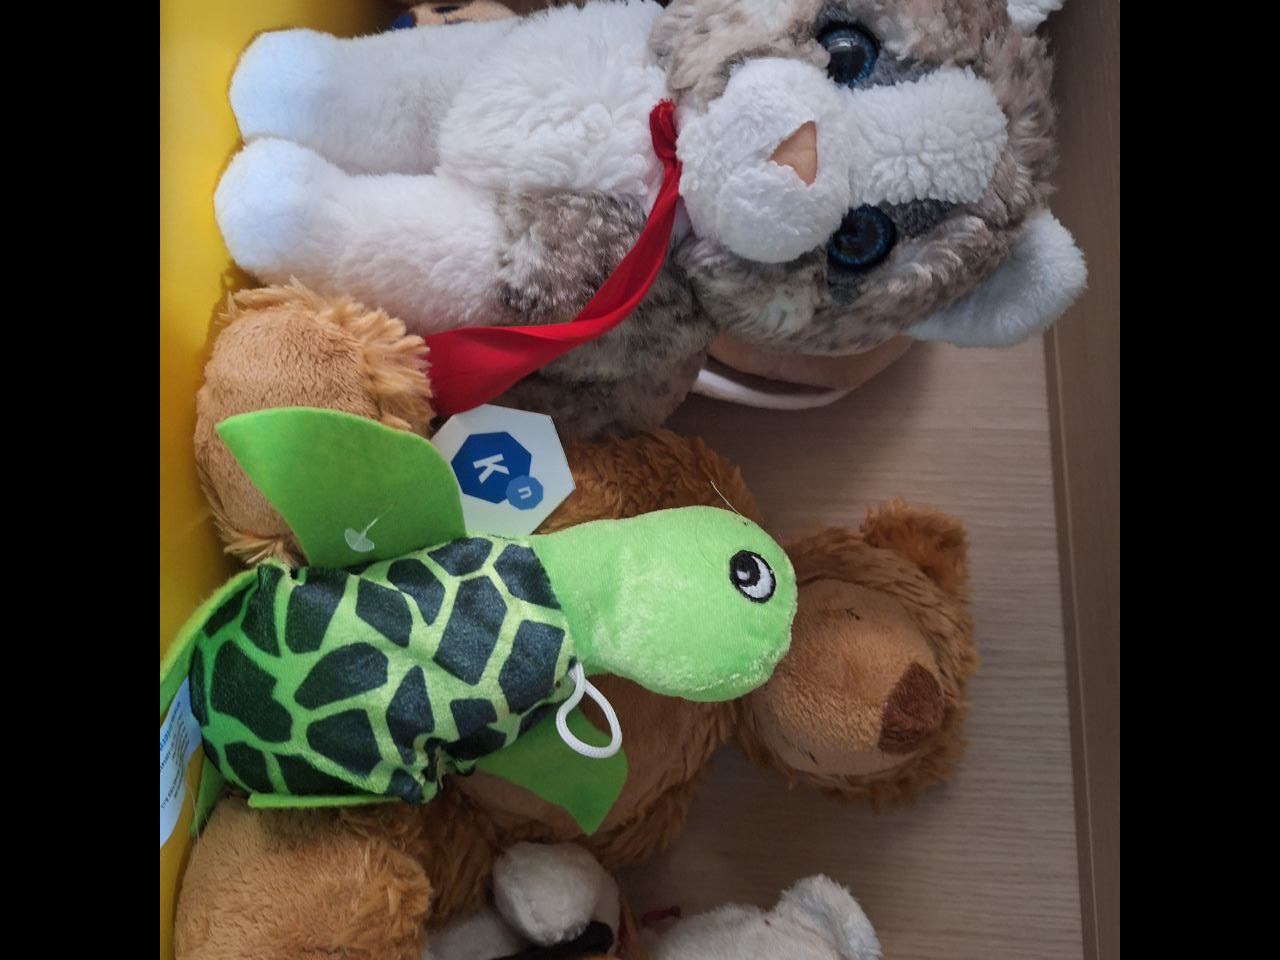knative: (449, 430, 544, 509)
